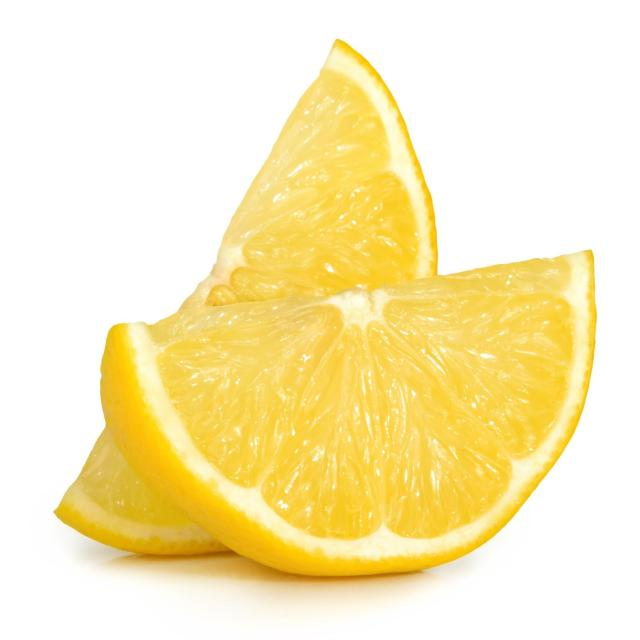lemon: (83, 241, 605, 583)
